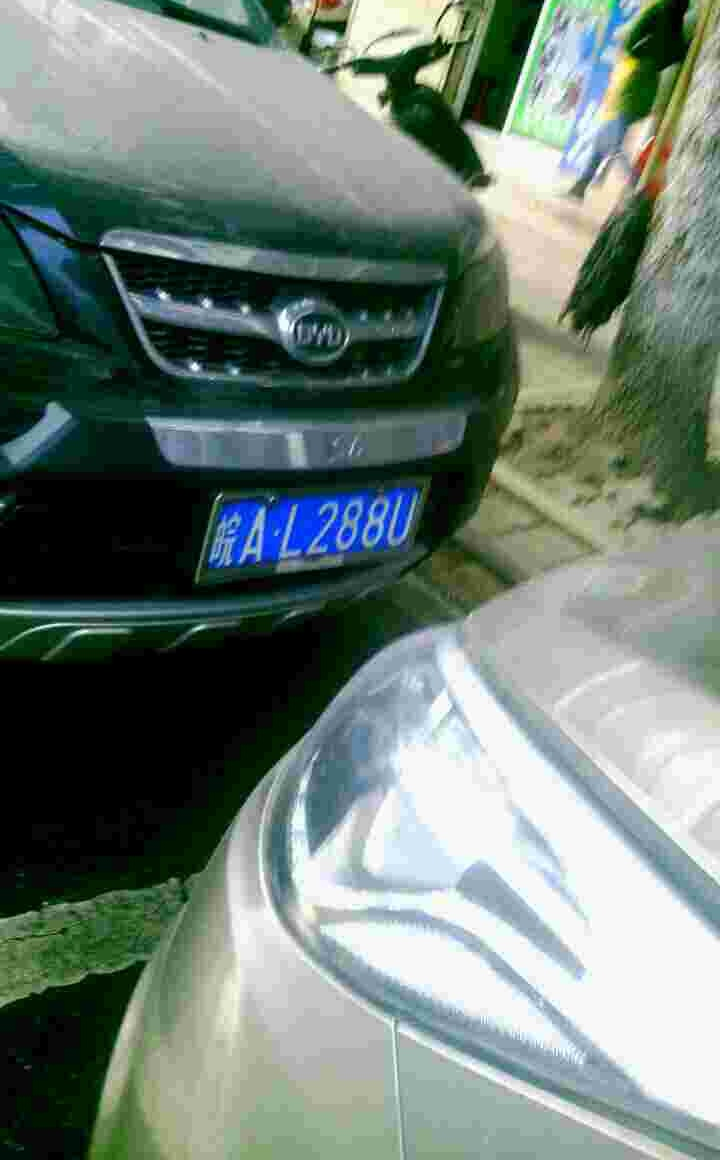car: (199, 492, 422, 563)
